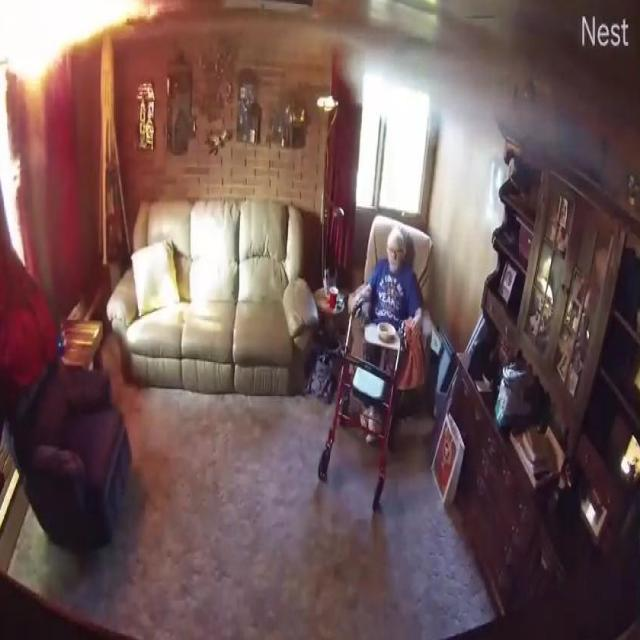smoke: (0, 0, 157, 85)
